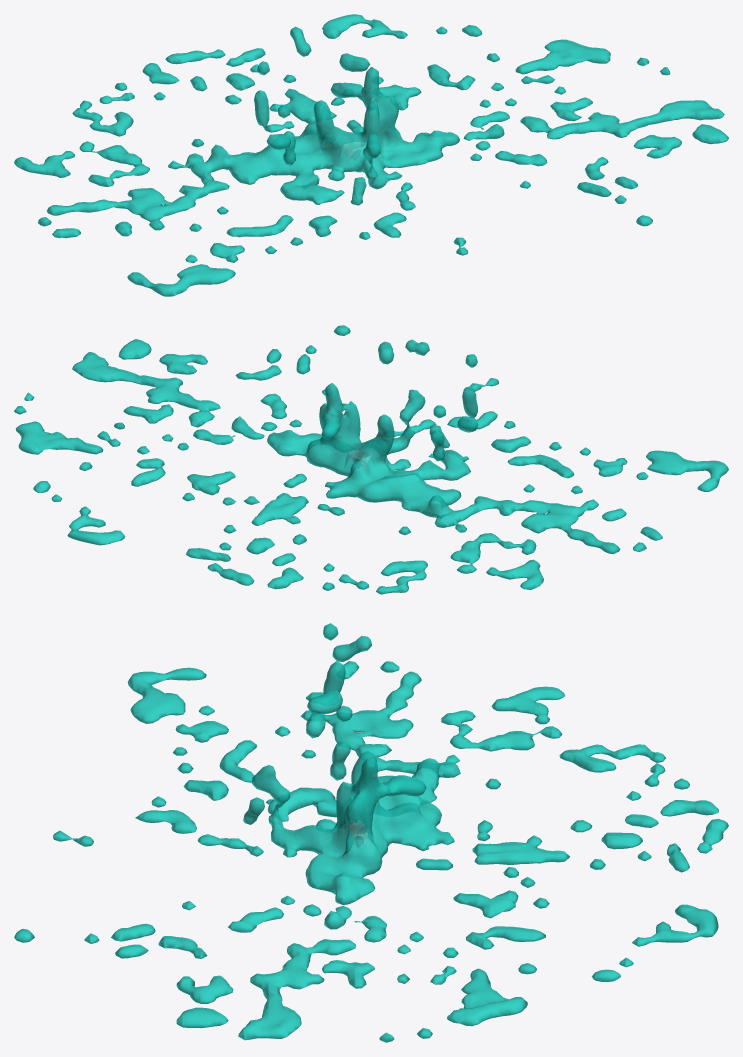
3 renders of one model, top to bottom at view 1: azimuth 30°, elevation 25°; view 2: azimuth 150°, elevation 25°; view 3: azimuth 270°, elevation 25°, orthographic. The views are drawn at different scales.
Visible parts, largest first — view 1: Liquid_Domain; view 2: Liquid_Domain; view 3: Liquid_Domain.
Boxes of the visible parts, x1,y1,x2,y2 form: Liquid_Domain: (14,14,728,296); Liquid_Domain: (14,325,728,594); Liquid_Domain: (14,623,728,1042).
Size of the model in its own units: 11.96 by 2.69 by 9.6.
